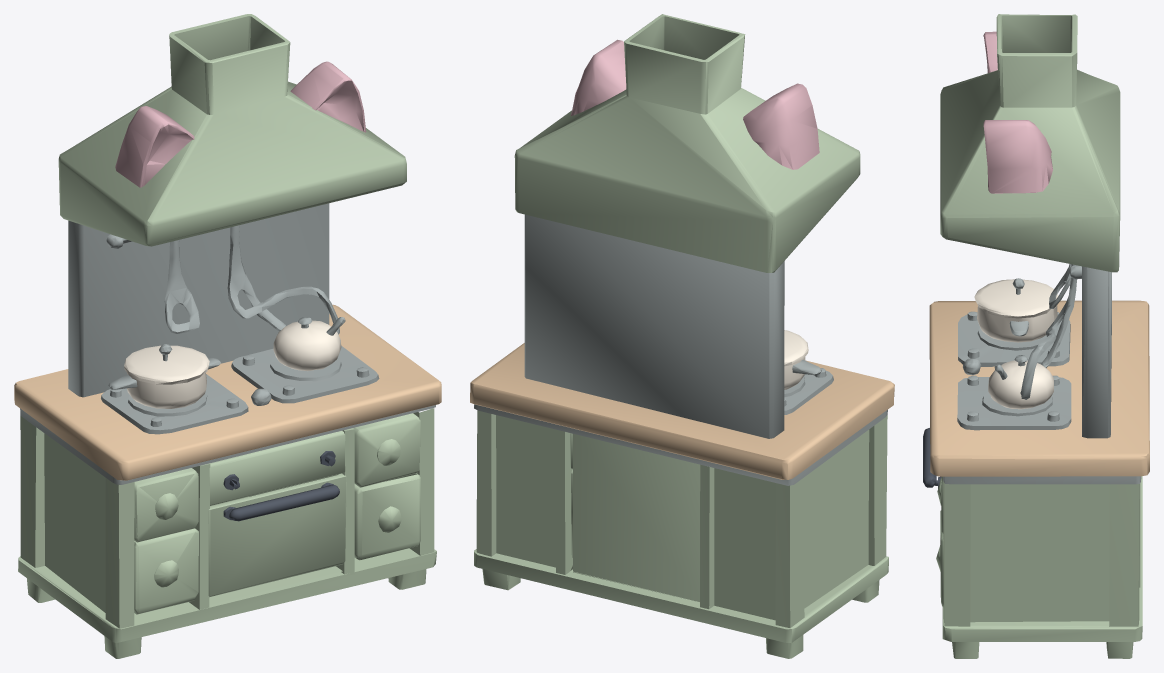
The model's file is kitchen_range.glb.
The picture shows the model from 3 angles, left to right: view 1: azimuth 30°, elevation 25°; view 2: azimuth 150°, elevation 25°; view 3: azimuth 270°, elevation 25°; orthographic projection.
Size of the model in its own units: 1.95 by 3.17 by 1.19.
